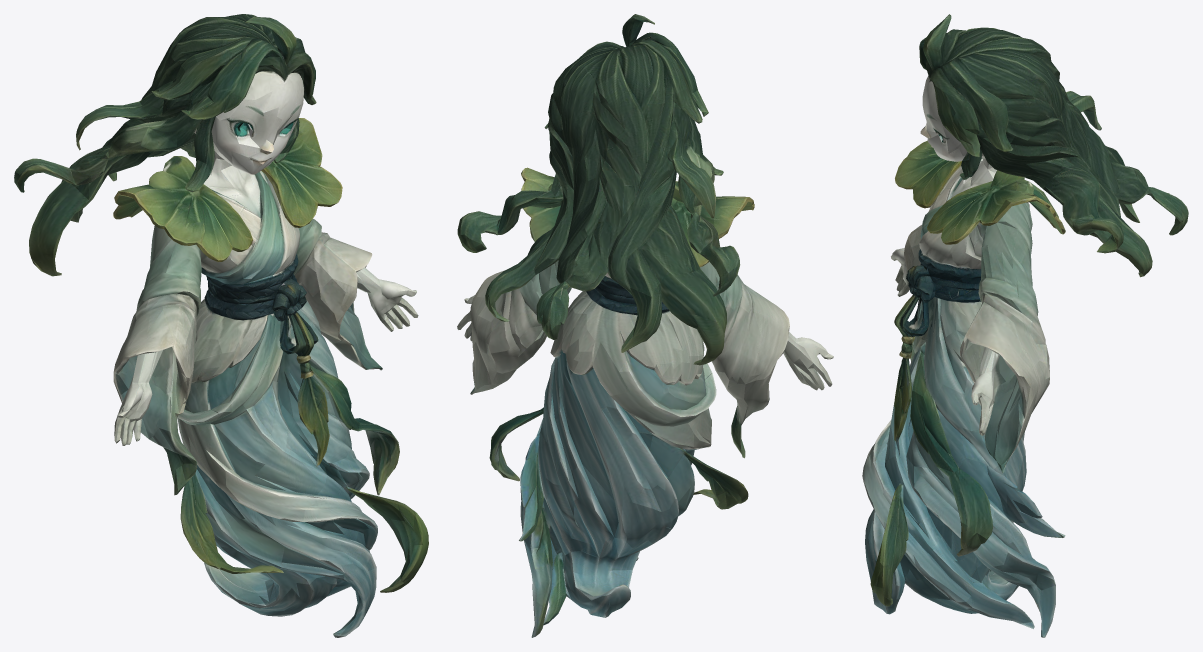
The model's file is pray.glb.
The picture shows the model from 3 angles, left to right: view 1: azimuth 30°, elevation 25°; view 2: azimuth 150°, elevation 25°; view 3: azimuth 270°, elevation 25°; orthographic projection. The views are drawn at different scales.
Bounding box in the file's own units: 1.1 × 1.9 × 0.9524.
1 material, 1 textured.
